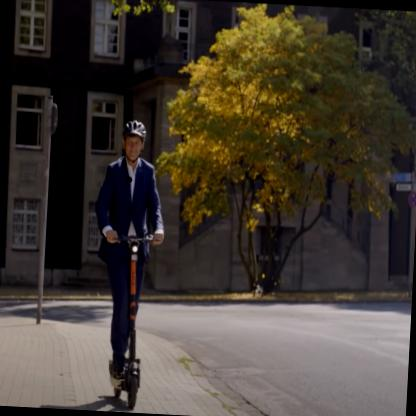helmet: (108, 119, 163, 167)
human: (96, 116, 166, 374)
kickboard: (109, 369, 139, 414)
